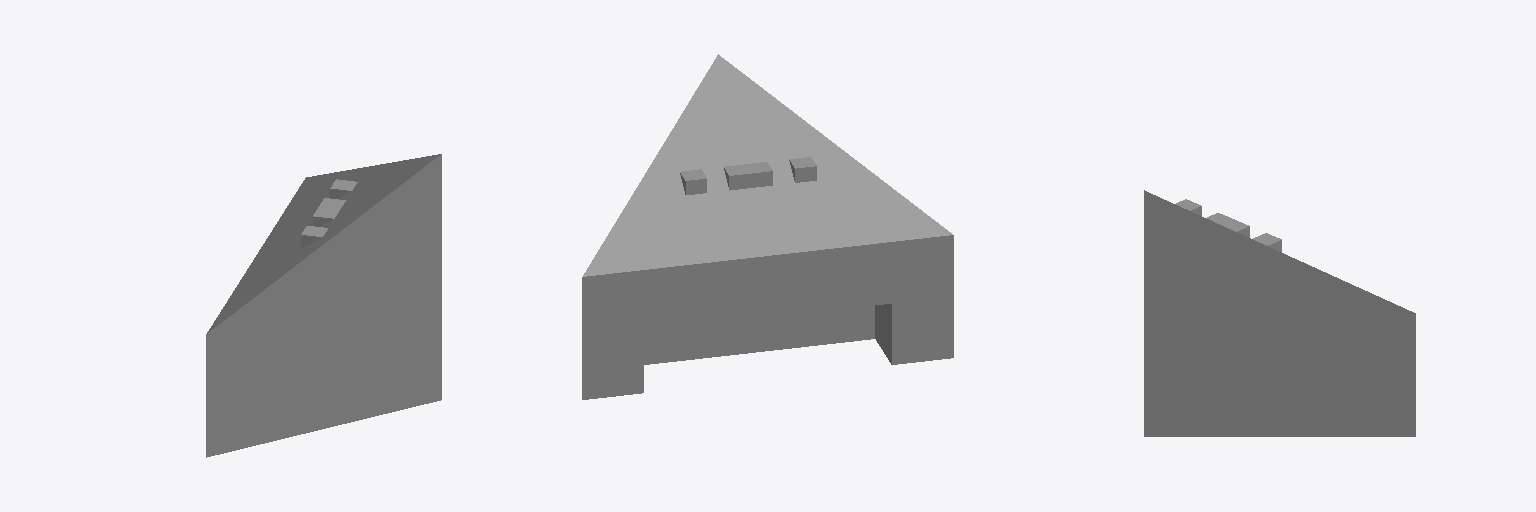
The model's file is marker_switch_podium_top.obj.
3 renders of one model, left to right at view 1: azimuth 30°, elevation 25°; view 2: azimuth 150°, elevation 25°; view 3: azimuth 270°, elevation 25°, orthographic.
Parts seen in each view (by area): view 1: podium.000_Cube.014, Cube.000_Cube.015; view 2: podium.000_Cube.014, Cube.000_Cube.015; view 3: podium.000_Cube.014, Cube.000_Cube.015.
Part boxes in pixels (x1,y1,x2,y2): podium.000_Cube.014: (206, 154, 441, 457); Cube.000_Cube.015: (301, 179, 357, 248); podium.000_Cube.014: (582, 54, 953, 399); Cube.000_Cube.015: (680, 157, 816, 194); podium.000_Cube.014: (1144, 190, 1415, 436); Cube.000_Cube.015: (1176, 199, 1281, 252).
Size of the model in its own units: 0.75 by 0.75 by 0.75.